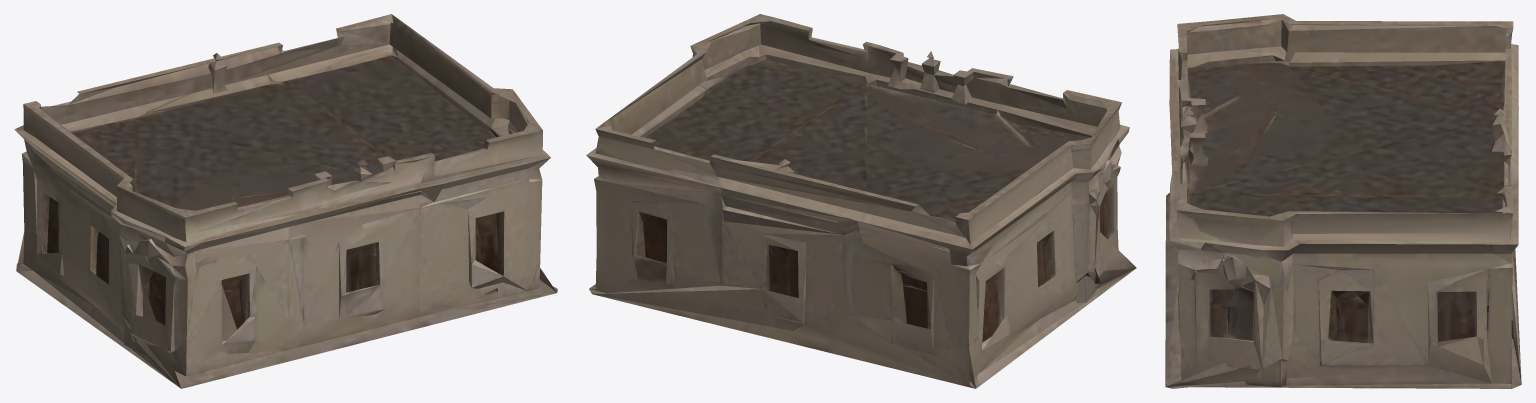
The model's file is casa-colonial-3.glb.
The picture shows the model from 3 angles, left to right: view 1: azimuth 30°, elevation 25°; view 2: azimuth 150°, elevation 25°; view 3: azimuth 270°, elevation 25°; orthographic projection. The views are drawn at different scales.
Bounding box in the file's own units: 1.9 × 0.7886 × 1.36.
Materials: 1 (1 with a texture image).
